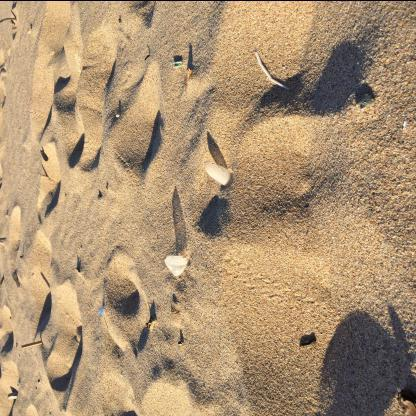plastik: (256, 52, 291, 90), (206, 160, 233, 186), (165, 255, 189, 277)
